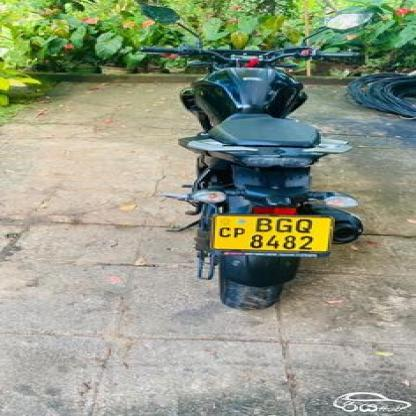bike back: (117, 0, 388, 316)
number plate: (212, 215, 322, 251)
